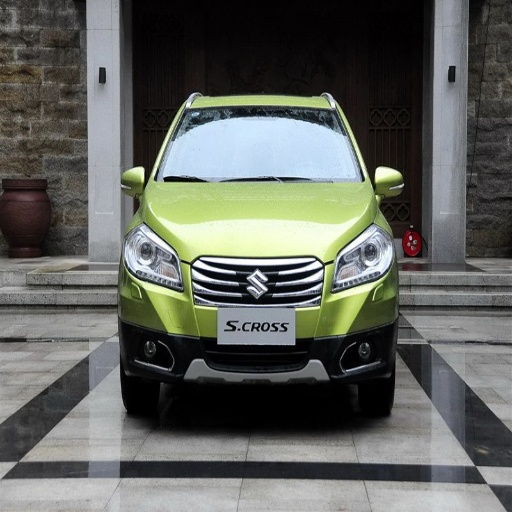front_bumper: (125, 257, 398, 379)
front_right_light: (125, 227, 184, 293)
hood: (144, 181, 372, 262)
